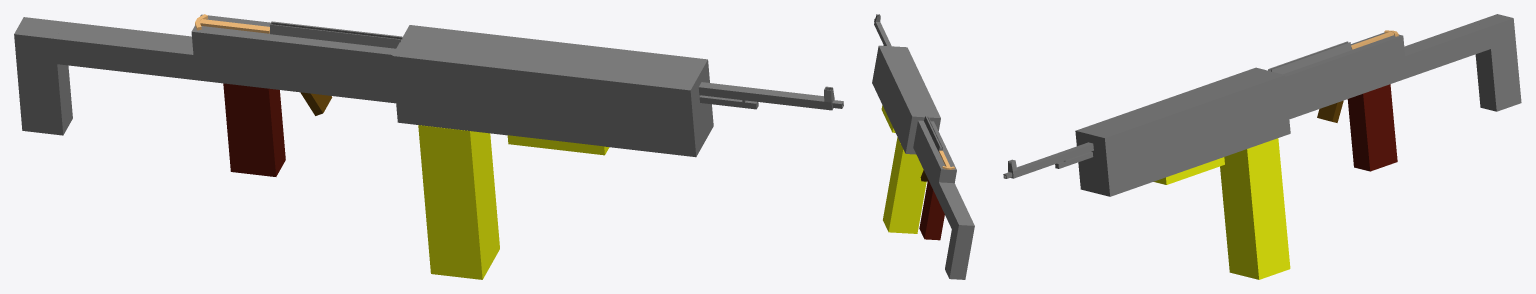
Rendered from RifleModel.fbx.
The picture shows the model from 3 angles, left to right: view 1: azimuth 30°, elevation 25°; view 2: azimuth 150°, elevation 25°; view 3: azimuth 270°, elevation 25°; orthographic projection. The views are drawn at different scales.
Parts seen in each view (by area): view 1: Cube_1, Cube, SolElSarjorYeri, Cube__1__1, SagEtTutusNoktası, Cube__2__1, Namlu, Cube__6_, SolElTutusNoktası, Cube__1_; view 2: Cube_1, SolElSarjorYeri, Cube, Cube__2__1, SagEtTutusNoktası, Cube__1__1, Namlu, Cube__3__1, SolElTutusNoktası, Cube__1_; view 3: Cube_1, SolElSarjorYeri, Cube, Cube__1__1, SagEtTutusNoktası, Cube__2__1, Namlu, Cube__3__1, SolElTutusNoktası, Tetik.
Boxes of the visible parts, <box> form: Cube_1: <box>392,25,713,157</box>; Cube: <box>191,14,395,103</box>; SolElSarjorYeri: <box>418,125,499,279</box>; Cube__1__1: <box>14,22,195,79</box>; SagEtTutusNoktası: <box>223,83,285,176</box>; Cube__2__1: <box>14,17,72,135</box>; Namlu: <box>698,82,834,110</box>; Cube__6_: <box>270,24,400,48</box>; SolElTutusNoktası: <box>507,135,609,155</box>; Cube__1_: <box>199,19,269,33</box>; Cube_1: <box>872,45,940,154</box>; SolElSarjorYeri: <box>883,137,926,233</box>; Cube: <box>913,120,956,188</box>; Cube__2__1: <box>945,215,974,279</box>; SagEtTutusNoktası: <box>919,179,944,240</box>; Cube__1__1: <box>933,175,969,238</box>; Namlu: <box>874,20,891,46</box>; Cube__3__1: <box>924,116,940,151</box>; SolElTutusNoktası: <box>881,105,895,132</box>; Cube__1_: <box>939,150,950,167</box>; Cube_1: <box>1075,67,1290,196</box>; SolElSarjorYeri: <box>1220,138,1290,279</box>; Cube: <box>1283,32,1404,119</box>; Cube__1__1: <box>1387,18,1515,84</box>; SagEtTutusNoktası: <box>1347,84,1397,171</box>; Cube__2__1: <box>1473,14,1521,111</box>; Namlu: <box>1008,142,1093,178</box>; Cube__3__1: <box>1271,42,1351,74</box>; SolElTutusNoktası: <box>1153,157,1224,184</box>; Tetik: <box>1317,100,1343,122</box>.
Bounding box in the file's own units: 55.74 × 25.64 × 63.27.
